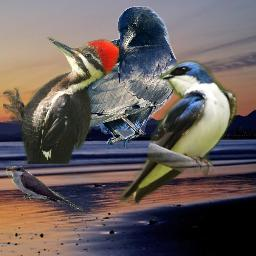Crow: (79, 6, 177, 149)
Cuckoo: (6, 166, 83, 212)
Swallow: (119, 60, 238, 205)
Woodpecker: (3, 37, 119, 164)
